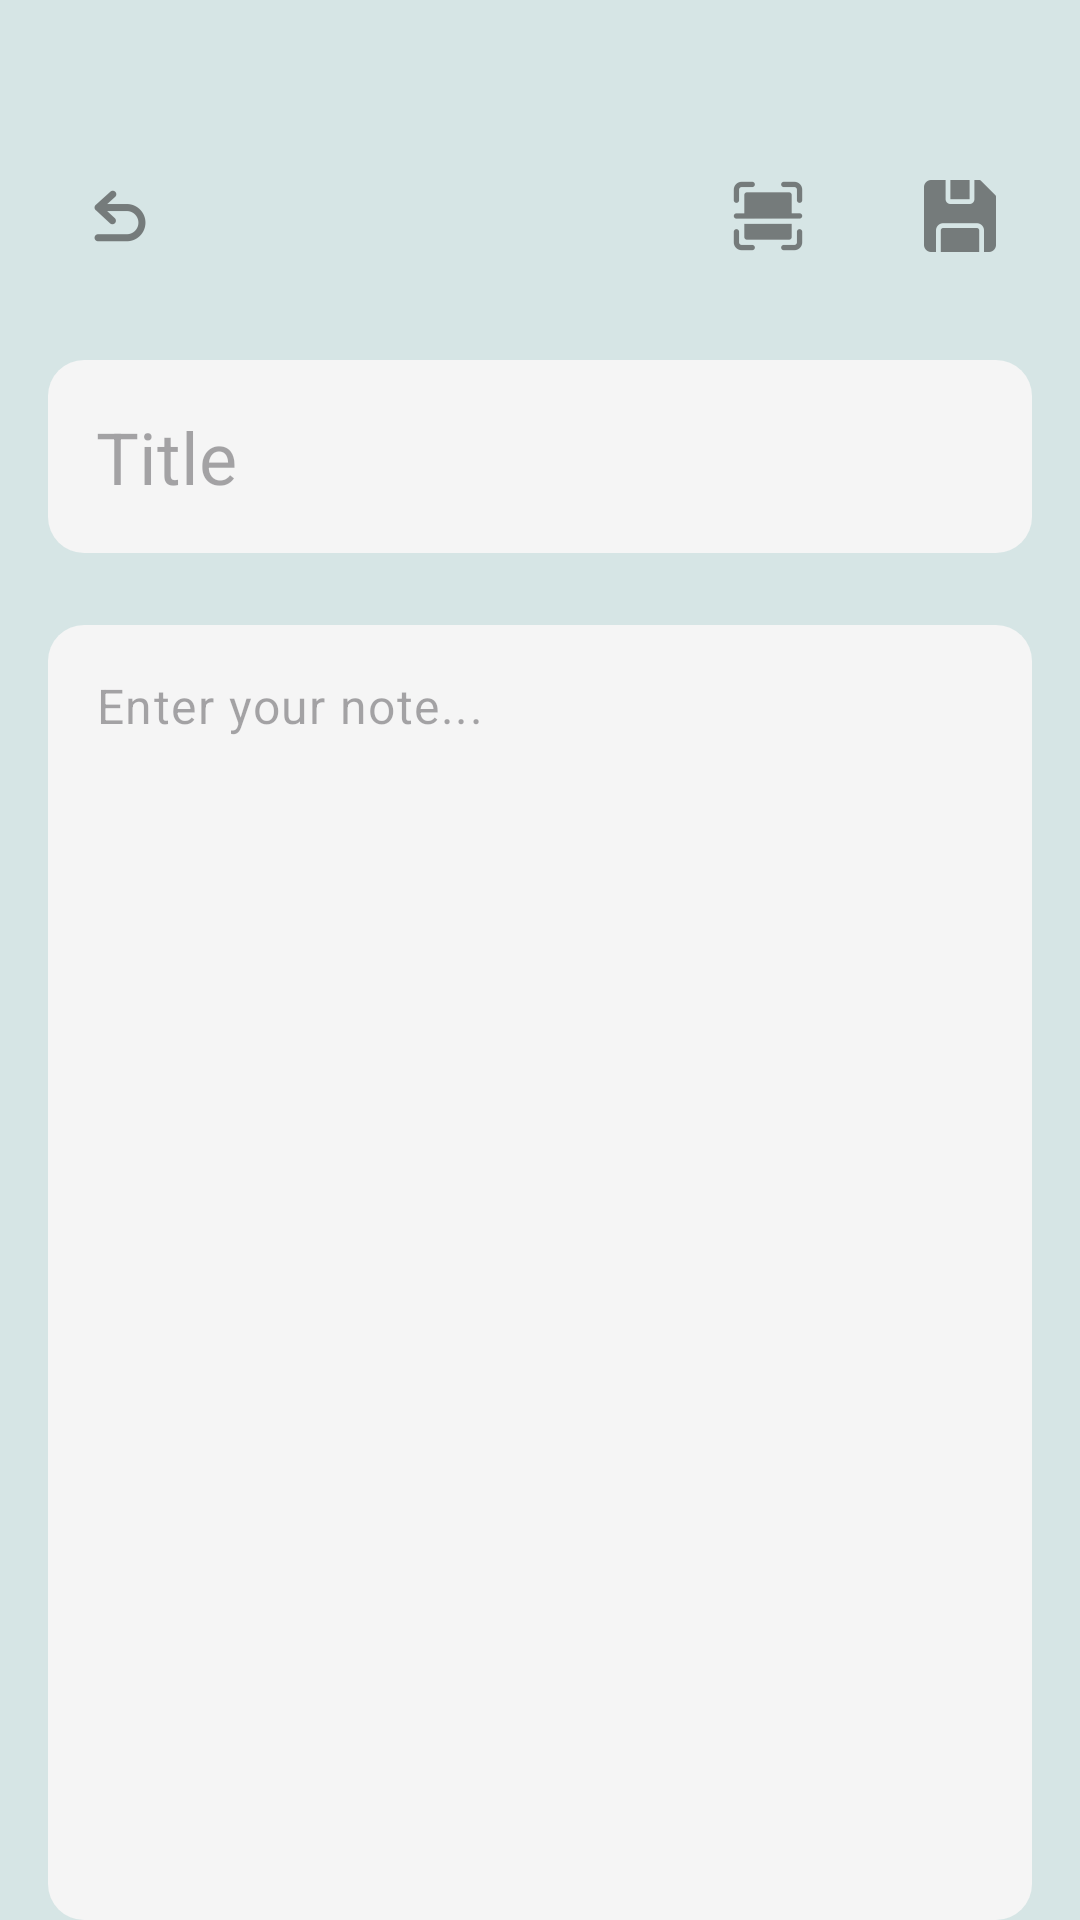

Named icons in this screenshot (1080×1920) and their bounding boxes, (x1, y1, x2, y2):
Cancel: (94, 190, 146, 242)
Save: (924, 180, 996, 252)
Scan: (734, 182, 802, 250)
